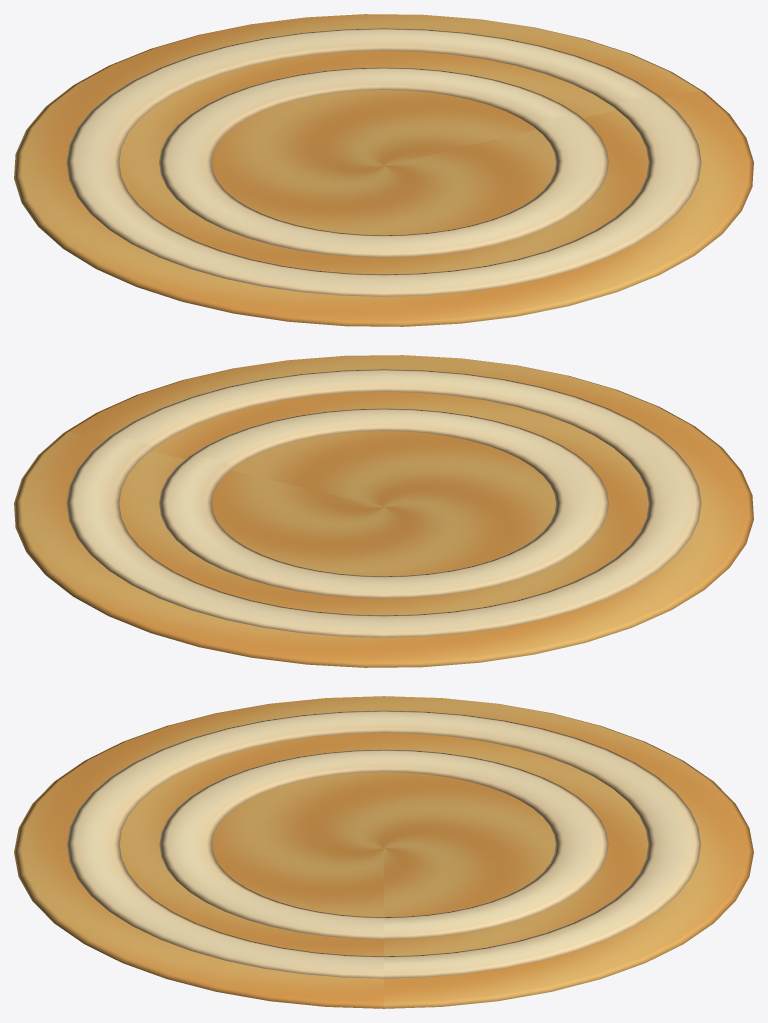
Rendered from SD_FX06_Quicksand.fbx.
3 views of the same model, one above another, from view 1: azimuth 30°, elevation 25°; view 2: azimuth 150°, elevation 25°; view 3: azimuth 270°, elevation 25° (orthographic).
Parts seen in each view (by area): view 1: Disc, Ring_02, Ring_01; view 2: Disc, Ring_02, Ring_01; view 3: Disc, Ring_02, Ring_01.
Part boxes in pixels (x1=…): Disc: x1=14, y1=14, x2=753, y2=326; Ring_02: x1=66, y1=28, x2=701, y2=296; Ring_01: x1=159, y1=67, x2=608, y2=257; Disc: x1=14, y1=355, x2=753, y2=667; Ring_02: x1=66, y1=369, x2=701, y2=637; Ring_01: x1=159, y1=408, x2=608, y2=598; Disc: x1=14, y1=696, x2=753, y2=1008; Ring_02: x1=67, y1=710, x2=700, y2=978; Ring_01: x1=159, y1=749, x2=608, y2=939.
Size of the model in its own units: 2.8 by 0.057 by 2.8.
